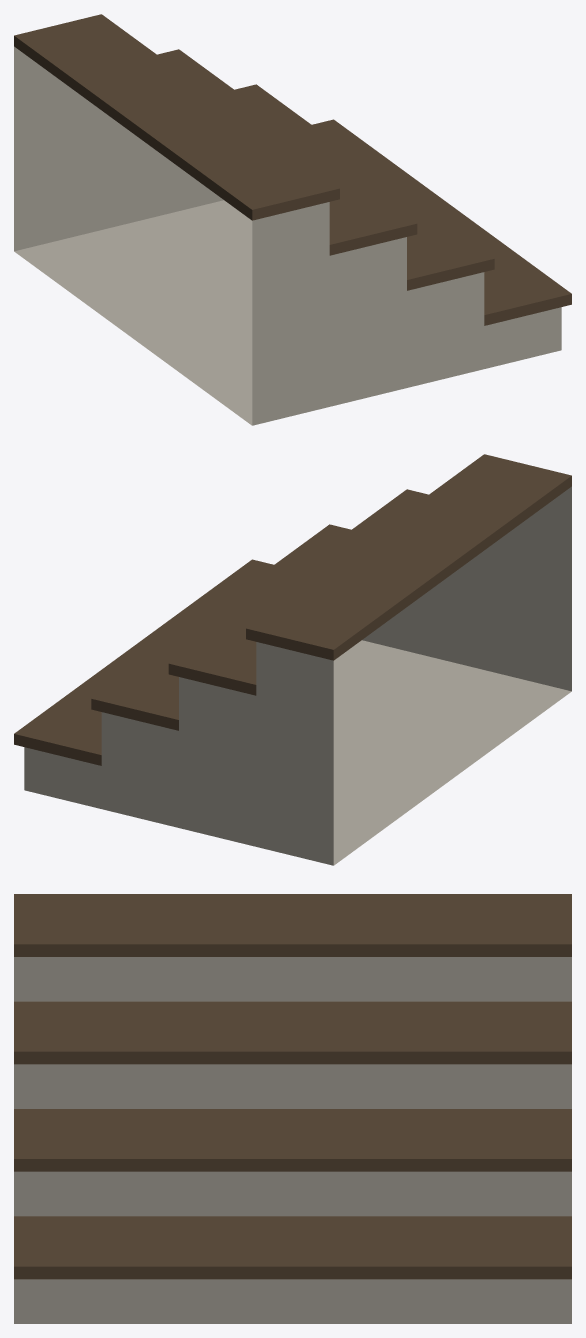
The model's file is SM_stairsSmall_01.glb.
3 views of the same model, one above another, from view 1: azimuth 30°, elevation 25°; view 2: azimuth 150°, elevation 25°; view 3: azimuth 270°, elevation 25° (orthographic). The views are drawn at different scales.
Parts seen in each view (by area): view 1: SM_stairsSmall_01; view 2: SM_stairsSmall_01; view 3: SM_stairsSmall_01.
Part boxes in pixels (x1,y1,x2,y2): SM_stairsSmall_01: [14, 14, 571, 425]; SM_stairsSmall_01: [14, 454, 571, 865]; SM_stairsSmall_01: [14, 894, 571, 1323].
Size of the model in its own units: 1.55 by 1 by 2.
Materials: 1 (1 with a texture image).
